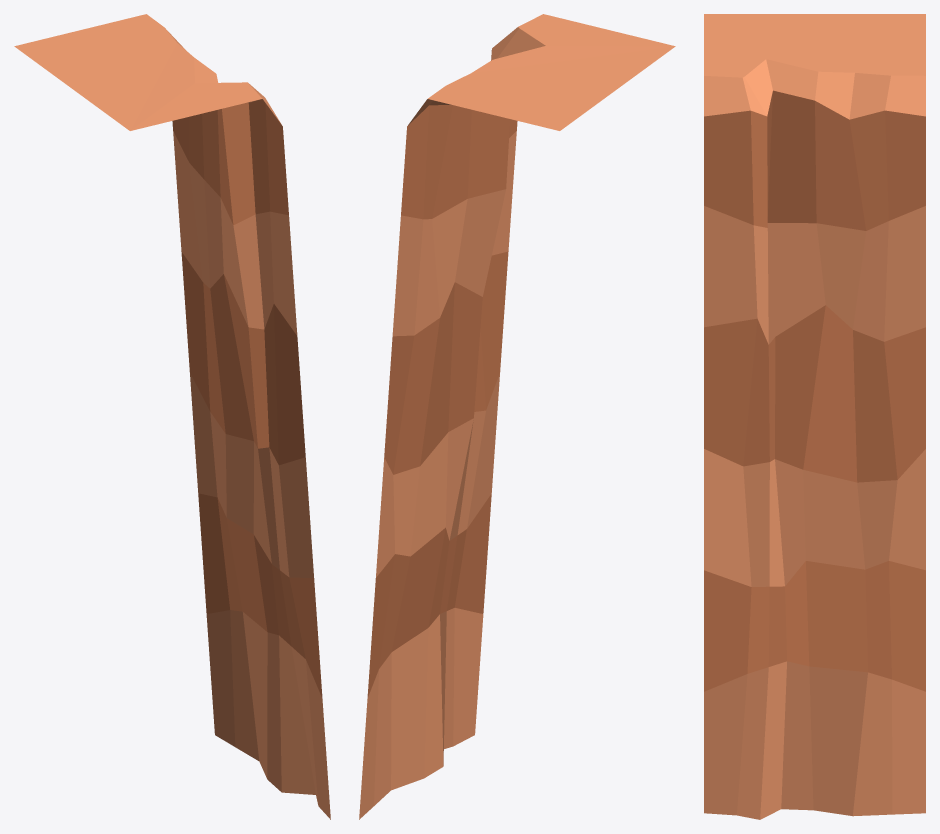
File: Straight_Cliff_2.fbx
3 views of the same model, side by side, from view 1: azimuth 30°, elevation 25°; view 2: azimuth 150°, elevation 25°; view 3: azimuth 270°, elevation 25° (orthographic). The views are drawn at different scales.
Parts seen in each view (by area): view 1: Straight_Cliff_2; view 2: Straight_Cliff_2; view 3: Straight_Cliff_2.
Part boxes in pixels (x1,y1,x2,y2): Straight_Cliff_2: [14, 14, 330, 819]; Straight_Cliff_2: [359, 14, 675, 819]; Straight_Cliff_2: [704, 14, 925, 819].
Size of the model in its own units: 214 by 703 by 200.
